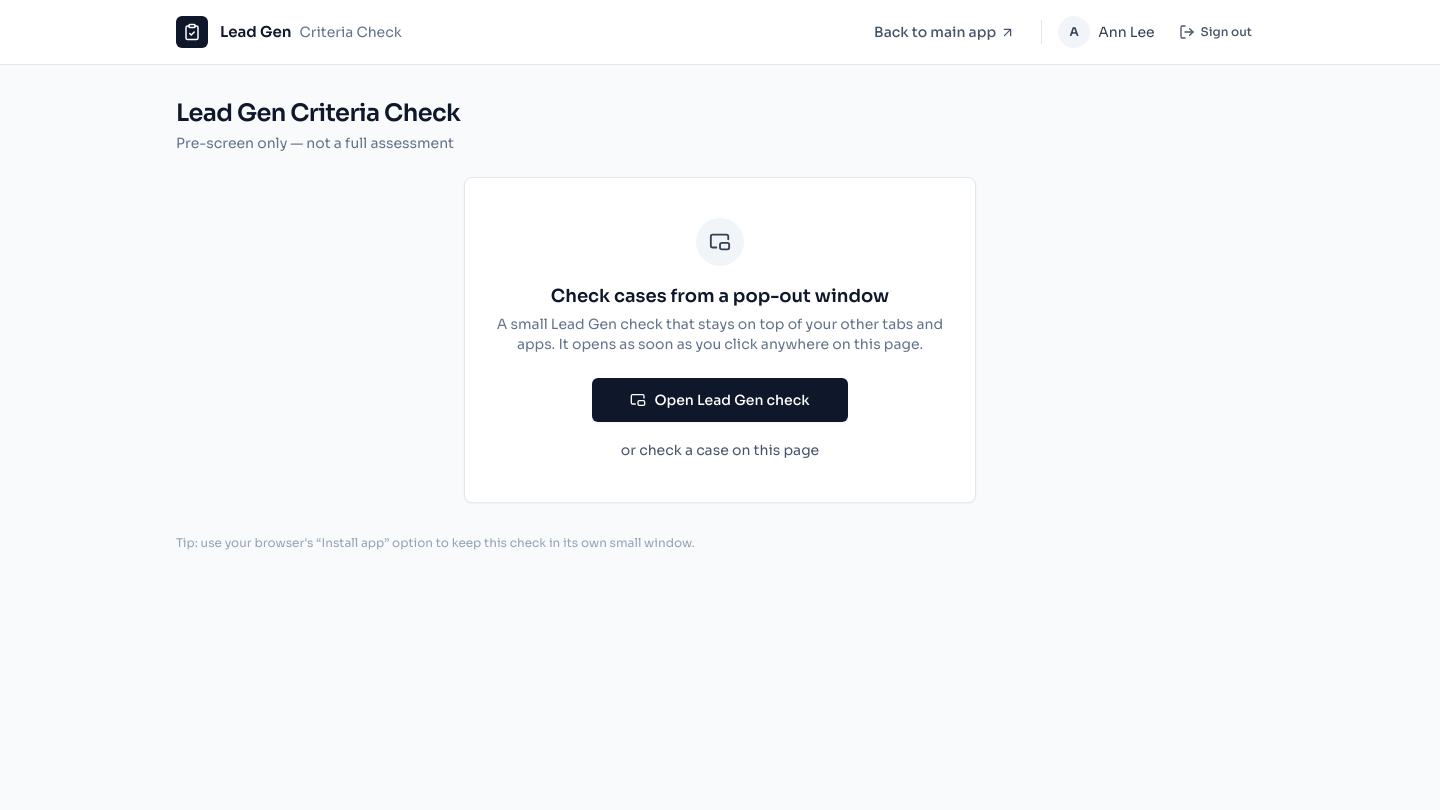
LeadGenPage › leads with the pop-out, with the in-page form as a fallback
Expected: the button "Open Lead Gen check" is shown, 592,378 -> 848,422
Expected: the field labelled "Case reference" is not shown
Step 1. Click the button "or check a case on this page" → (720, 450), box 621,440 -> 819,460
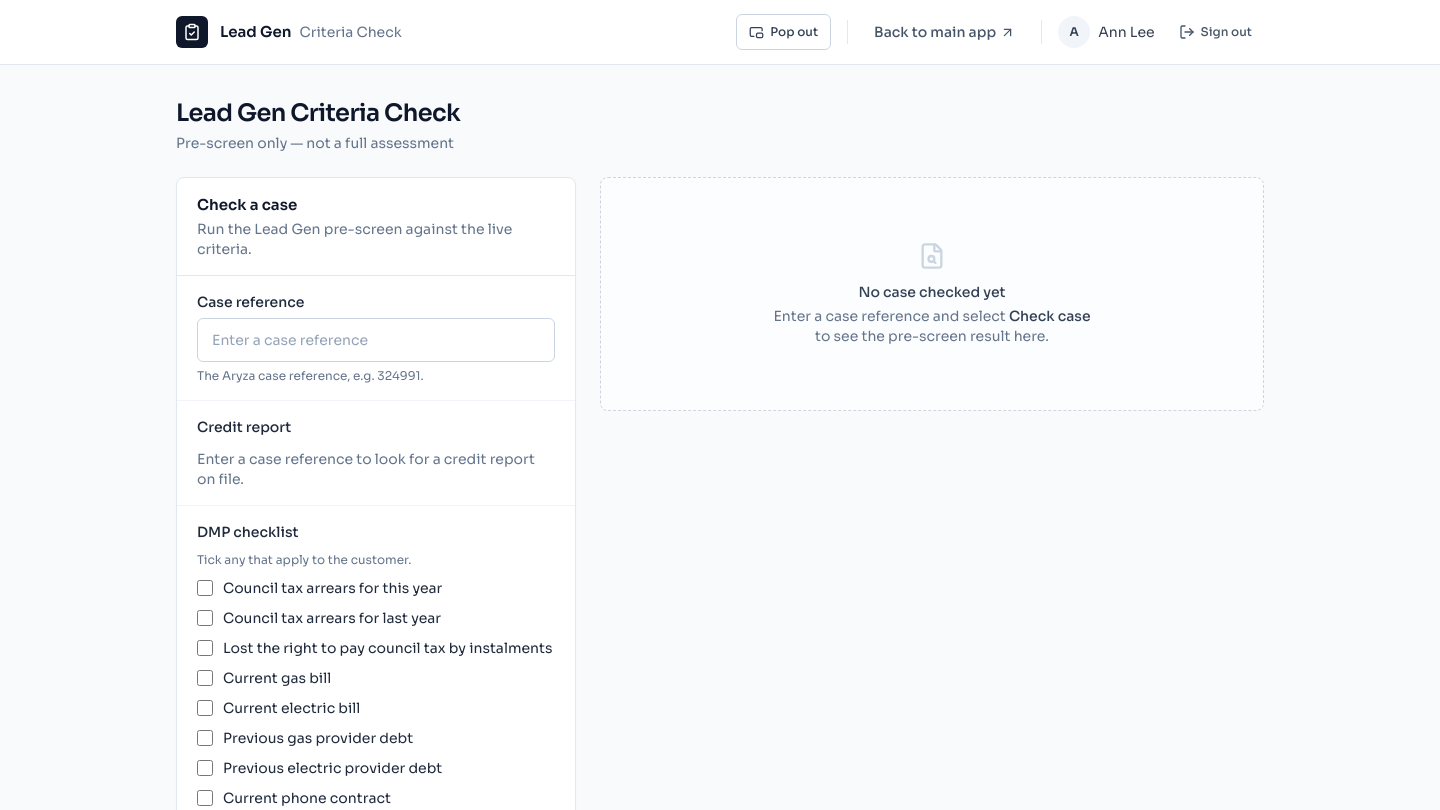
Expected: the field labelled "Case reference" is shown, 197,318 -> 555,362
